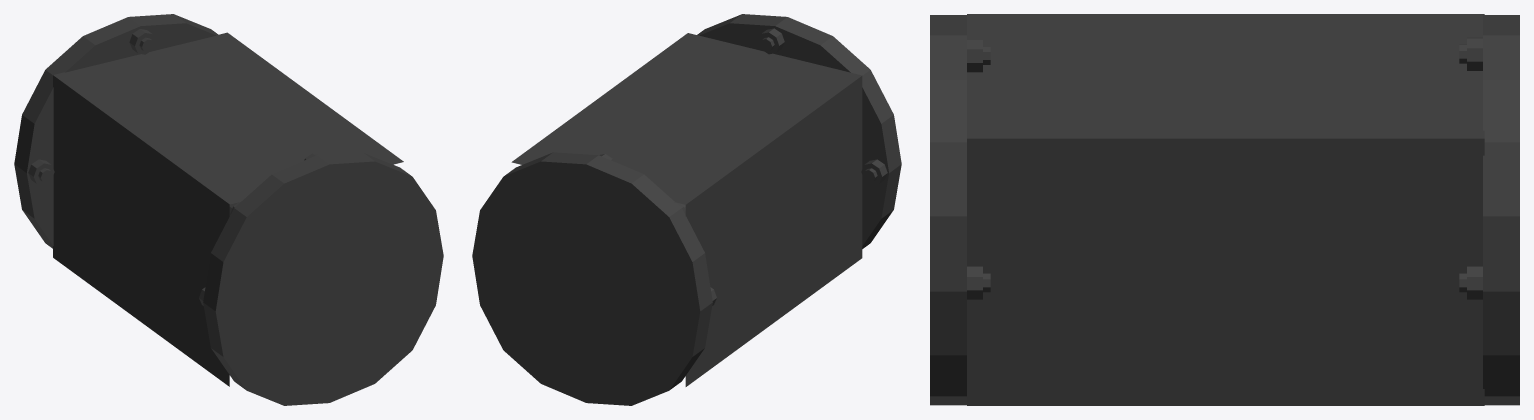
3 renders of one model, left to right at view 1: azimuth 30°, elevation 25°; view 2: azimuth 150°, elevation 25°; view 3: azimuth 270°, elevation 25°, orthographic. The views are drawn at different scales.
Parts seen in each view (by area): view 1: world; view 2: world; view 3: world.
Part boxes in pixels (x1,y1,x2,y2): world: [14, 14, 443, 405]; world: [472, 14, 901, 405]; world: [930, 14, 1519, 405].
Size of the model in its own units: 0.6536 by 0.6536 by 1.
Materials: 1 (1 with a texture image).
